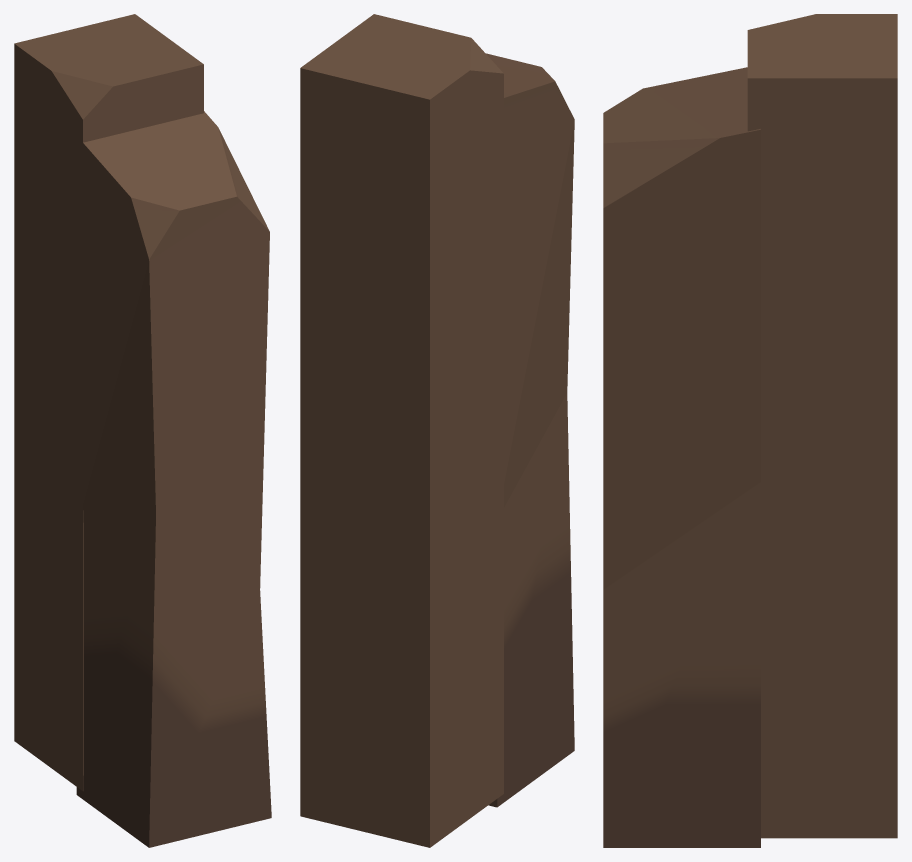
Rendered from SM_Bld_Retainer_Wall_01_Short_Corner.fbx.
The picture shows the model from 3 angles, left to right: view 1: azimuth 30°, elevation 25°; view 2: azimuth 150°, elevation 25°; view 3: azimuth 270°, elevation 25°; orthographic projection. The views are drawn at different scales.
Visible parts, largest first — view 1: SM_Bld_Retainer_Wall_01_Short_Corner; view 2: SM_Bld_Retainer_Wall_01_Short_Corner; view 3: SM_Bld_Retainer_Wall_01_Short_Corner.
Part boxes in pixels (left/top/right/bottom): SM_Bld_Retainer_Wall_01_Short_Corner: left=14, top=14, right=271, bottom=847; SM_Bld_Retainer_Wall_01_Short_Corner: left=300, top=14, right=574, bottom=847; SM_Bld_Retainer_Wall_01_Short_Corner: left=603, top=14, right=897, bottom=847.
Bounding box in the file's own units: 12.55 × 69 × 23.92.
